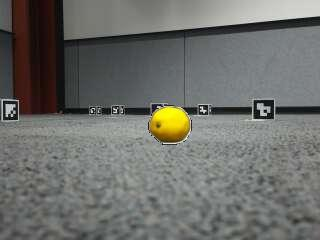lemon: (152, 109, 191, 144)
